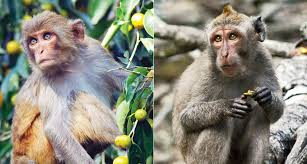monkey: (9, 7, 101, 86), (196, 5, 271, 75)
